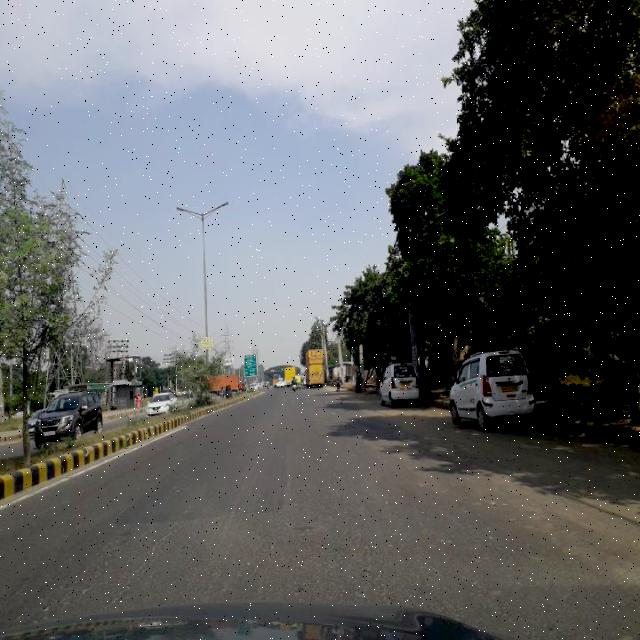D00: (40, 524, 180, 604), (323, 489, 397, 598)
